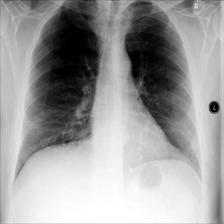normal: (8, 0, 204, 189)
